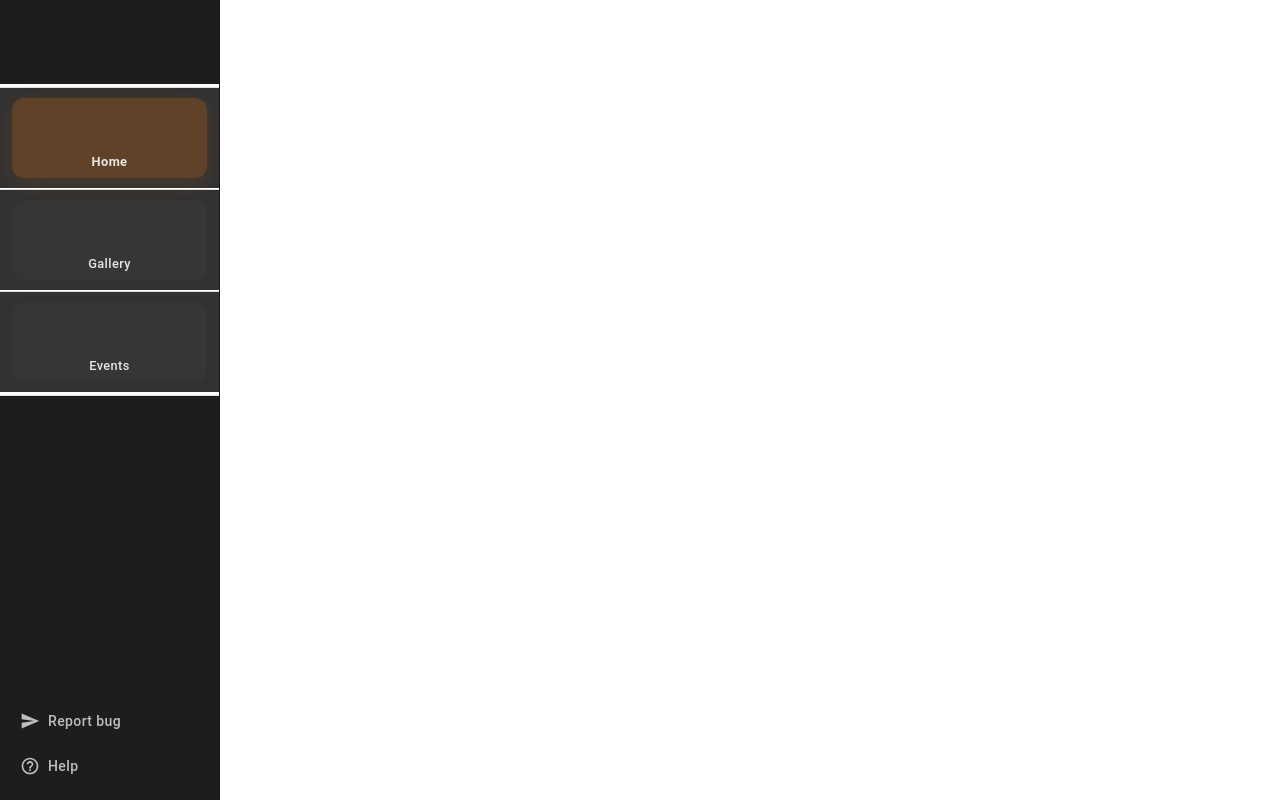
SidePanel Component › debería abrir el diálogo de ayuda al hacer click en Help
The width and height of the screenshot is (1280, 800).
Click the button "Help" at (110, 766), box x1=16 y1=748 x2=203 y2=784
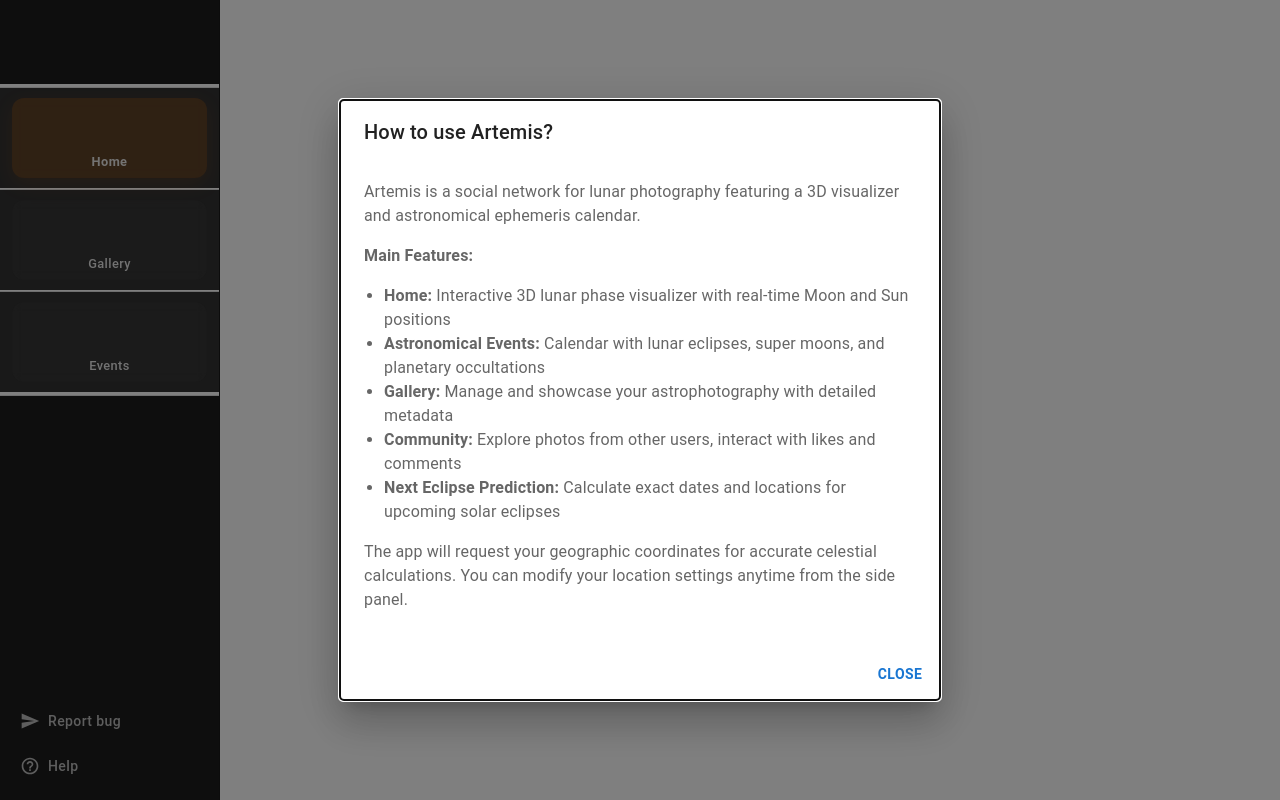
Now the heading "How to use Artemis?" is shown, box x1=364 y1=120 x2=553 y2=144
Now the text "Artemis is a social network" is shown, box x1=364 y1=182 x2=899 y2=225
